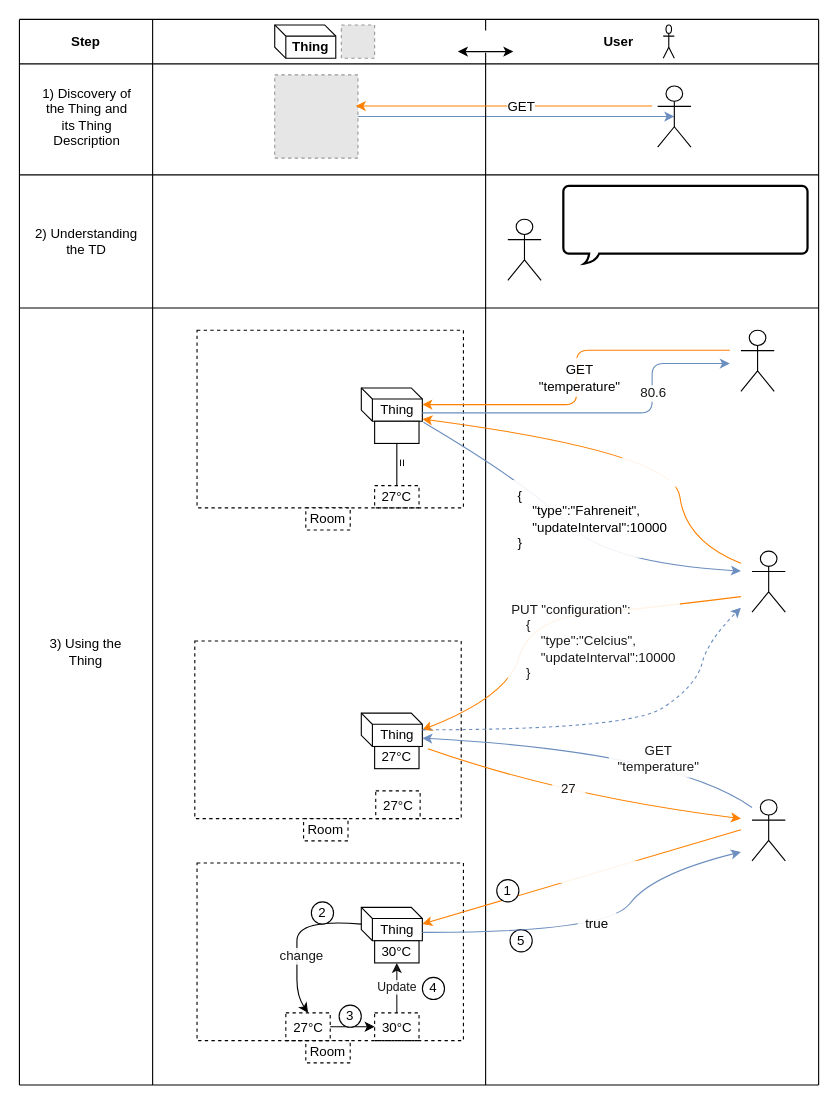
This 839x1106 diagram has some shape labels left out. Grey dashed boxes stand in for pictures. Each missing label, with the centre of its shape:
80.6°F: [396,431]
GET "configuration": [658,464]
HTTP: [486,41]
I want to increase the temperature of this room to 30°C: [685,224]
POST "change":3: [607,871]
